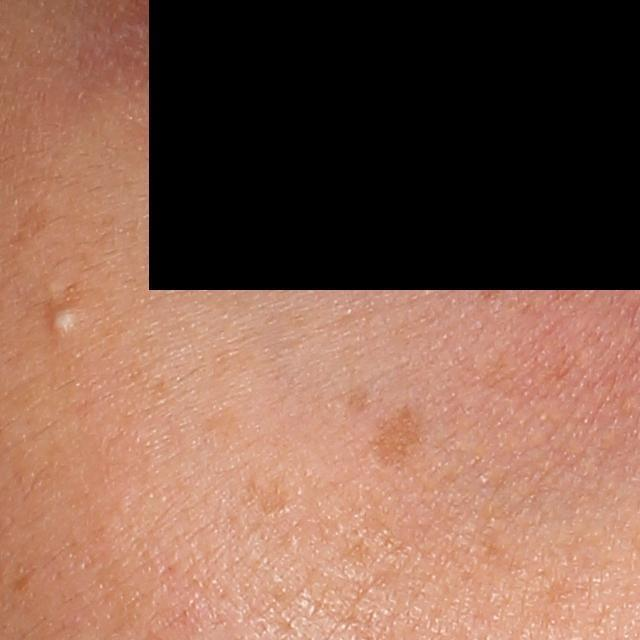comedo: (47, 307, 82, 336)
melasma: (363, 405, 431, 473), (5, 198, 52, 245)
